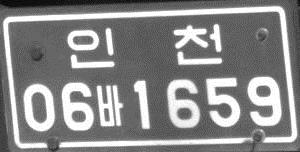0: (22, 80, 55, 134)
1: (129, 77, 152, 132)
5: (204, 75, 240, 129)
6: (59, 80, 95, 134), (165, 77, 200, 130)
9: (245, 74, 282, 129)
바: (94, 83, 126, 131)
인천_D: (65, 21, 225, 71)
